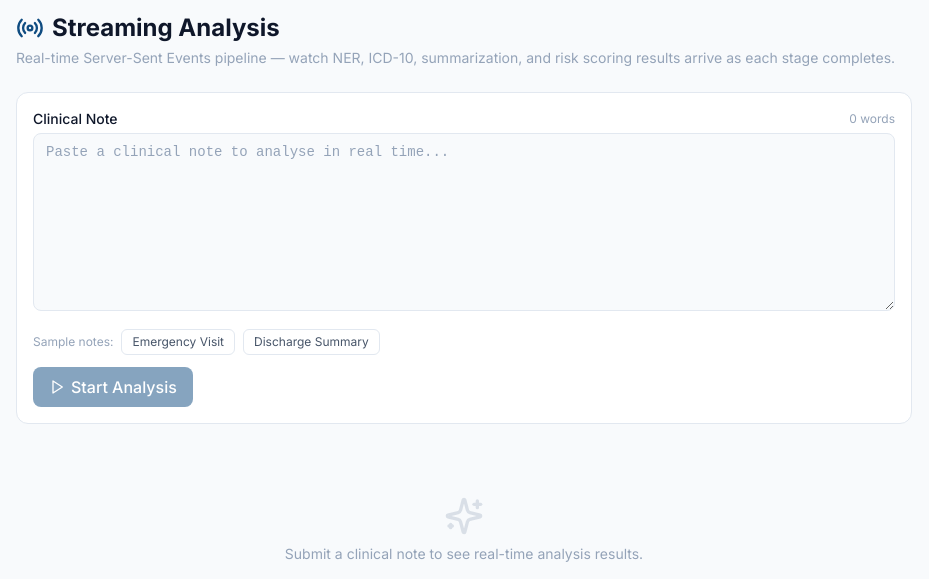
Test: StreamingAnalysis — controls › enables start button when text is present
Step 1. Type "Clinical note text" into the text box named "Clinical text input" → (464,222), box [33, 133, 895, 311]
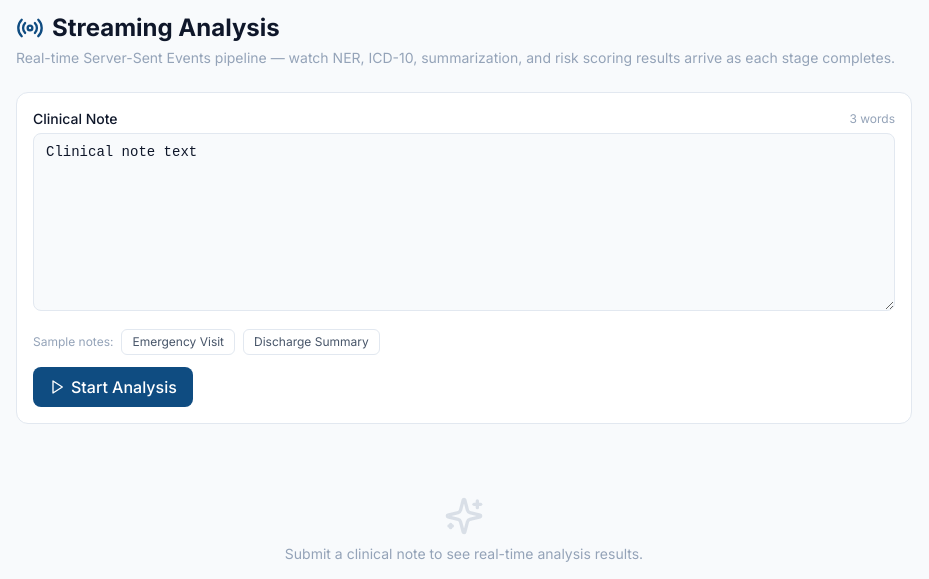
Result: the button "Start Analysis" is enabled at [33, 367, 193, 407]
